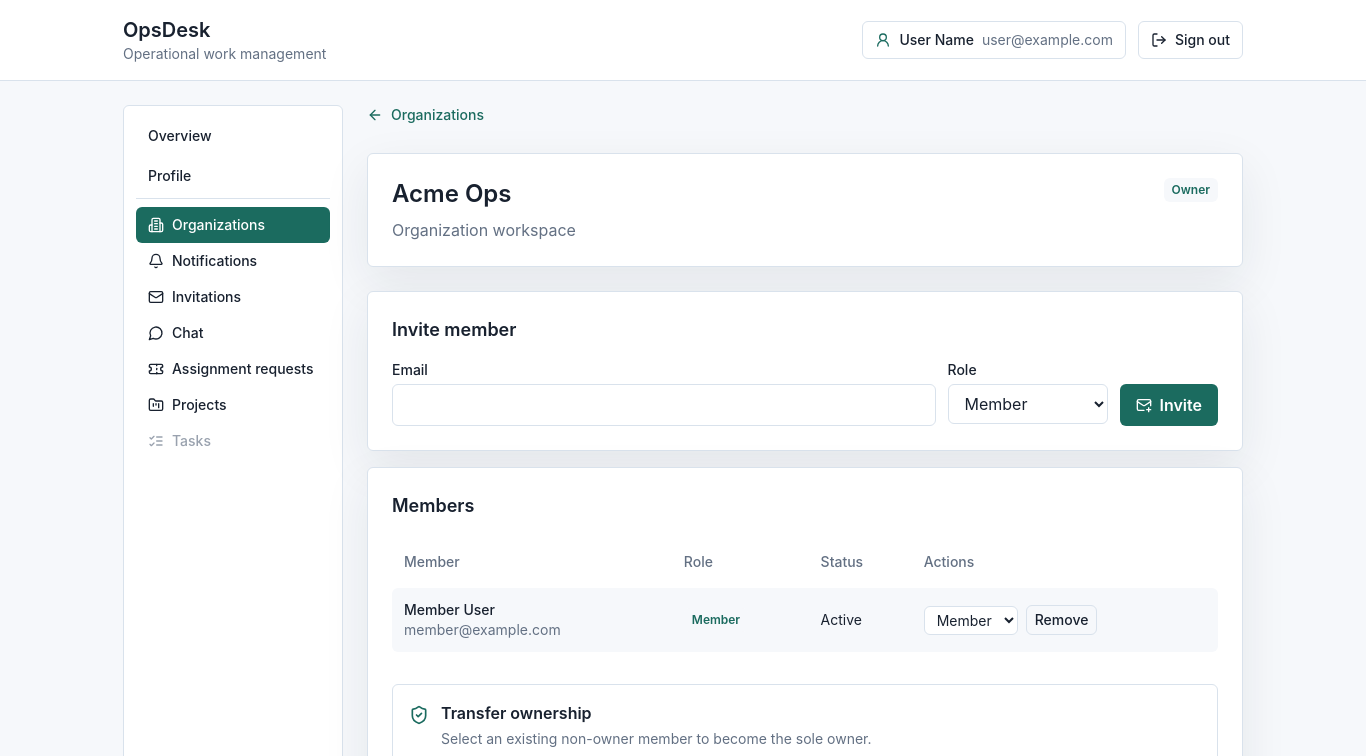
Test: SPEC-105 frontend organizations UI › lets owners invite existing users and renders duplicate errors
This screenshot has width=1366, height=756.
Type "invitee@example.com" into the field labelled "Email".
click(664, 405); type("invitee@example.com")  # box [392,384,936,426]
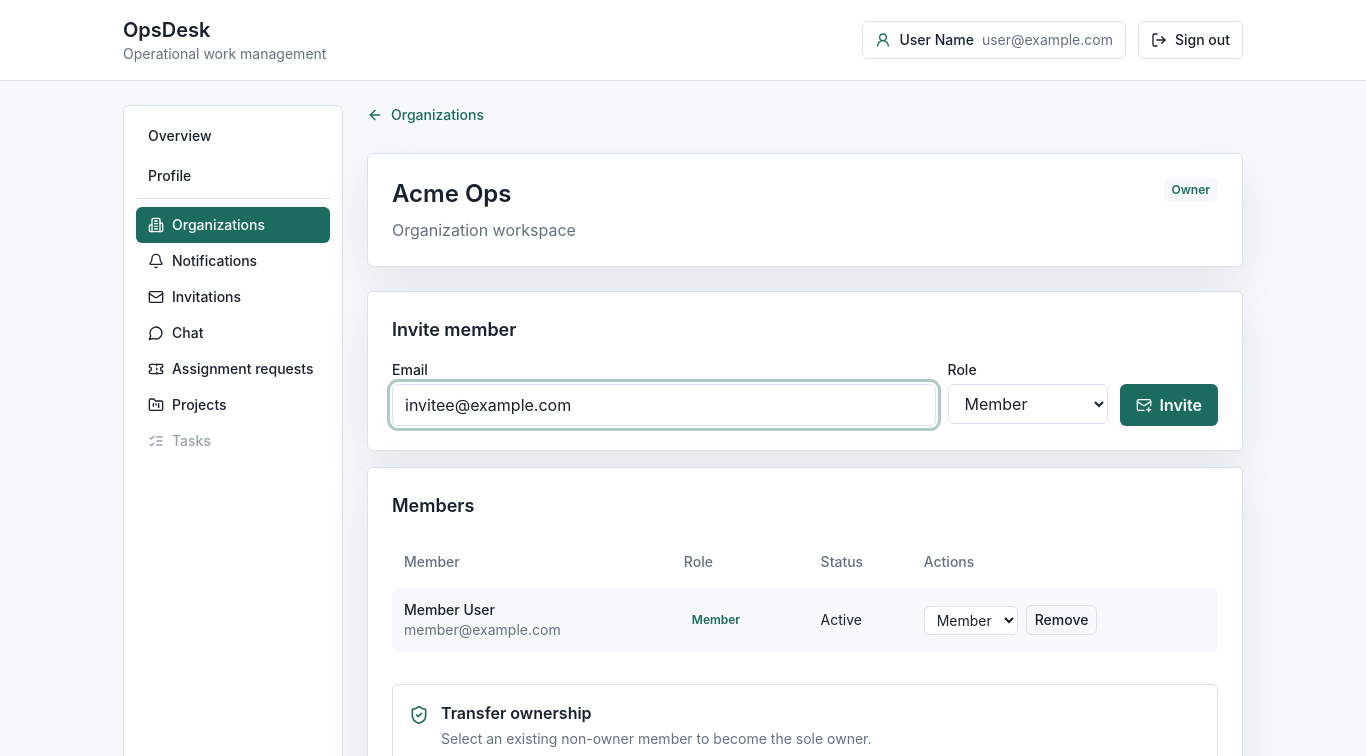
Click the button "Invite".
click(1169, 405)  # box [1120,384,1218,426]
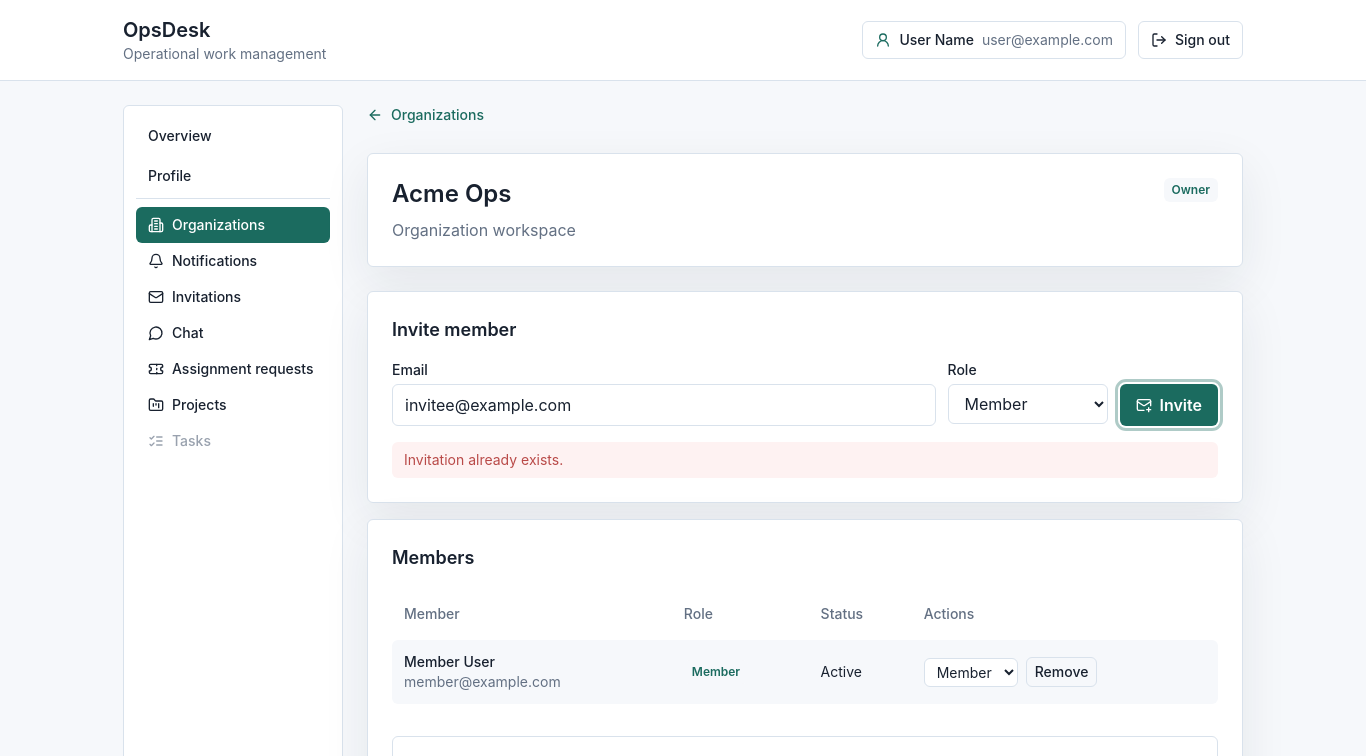
Now the text "Invitation already exists." is shown, box [392,442,1218,478]
